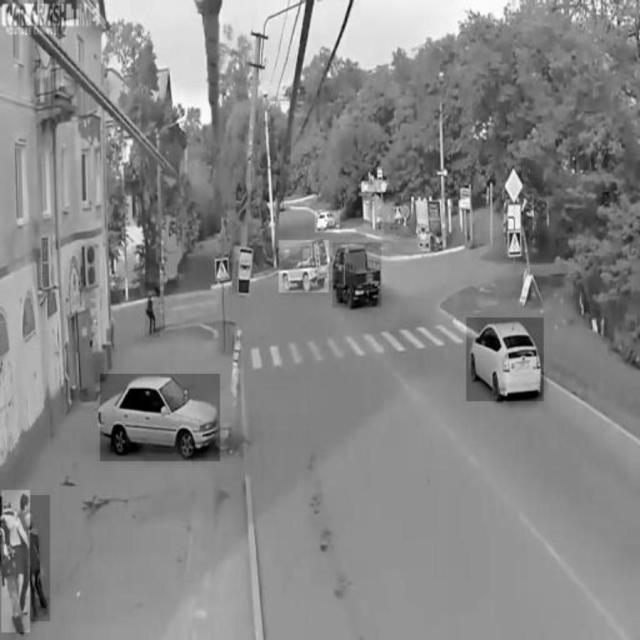person: (1, 489, 29, 633), (23, 495, 50, 621), (145, 284, 160, 339)
vehicle: (100, 374, 221, 462), (467, 318, 544, 401), (333, 243, 381, 307), (280, 240, 330, 292), (316, 210, 341, 232)
